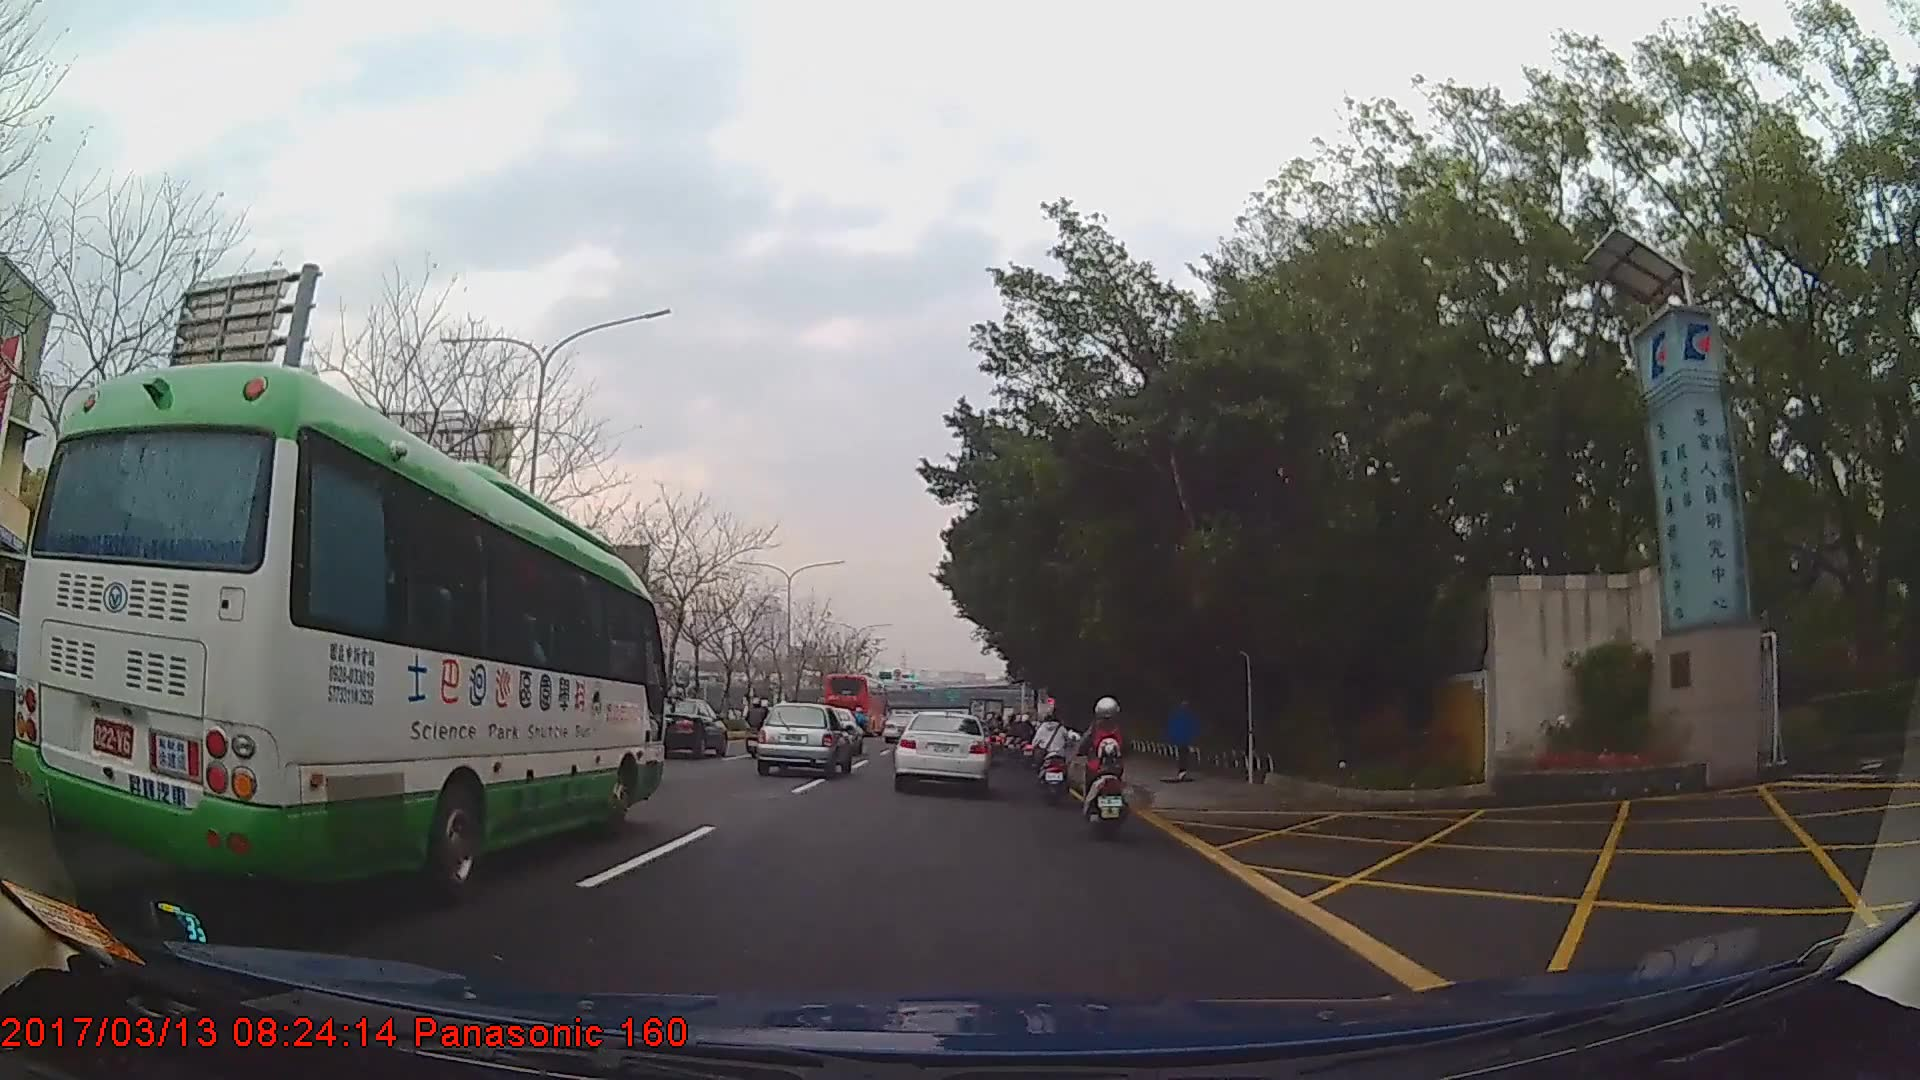pedestrian: (1168, 692, 1202, 779)
rider: (1077, 698, 1132, 836), (1035, 707, 1075, 807), (747, 697, 771, 747)
vehicle: (19, 357, 663, 899), (891, 706, 990, 791), (755, 700, 853, 776), (644, 690, 729, 755), (822, 666, 889, 731)
